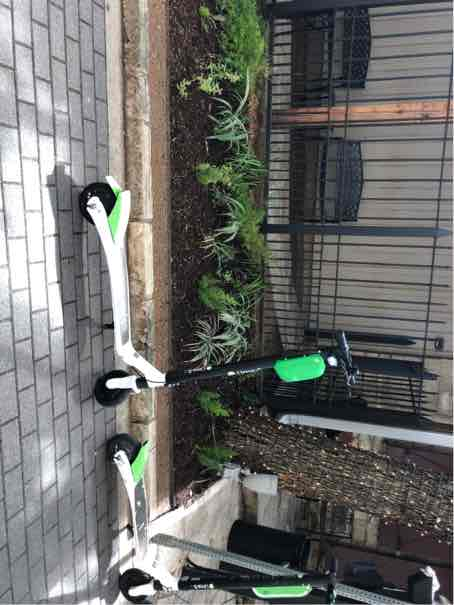scooter: (67, 143, 348, 428)
